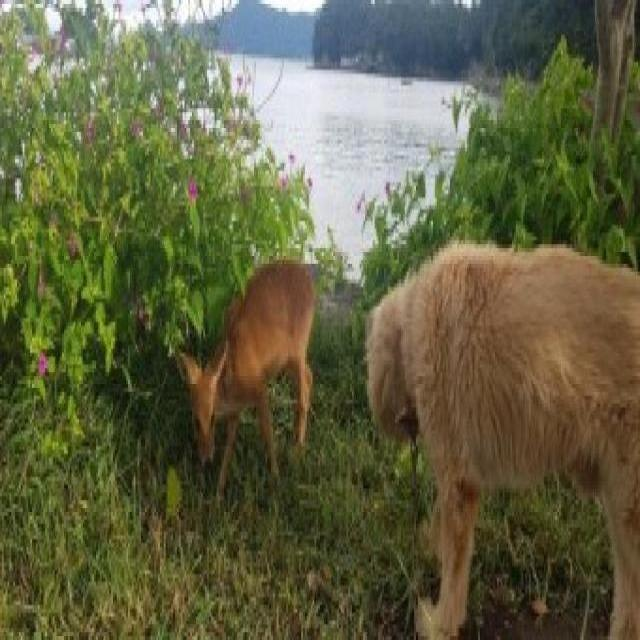deer: (169, 255, 323, 536)
